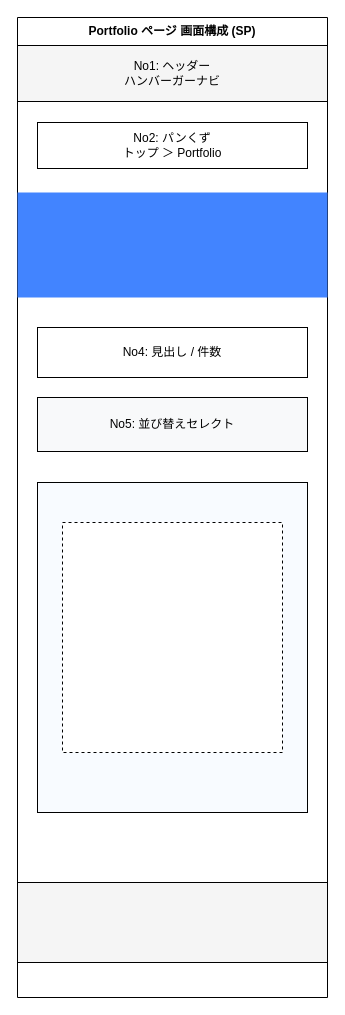
The diagram is 345 pixels wide and 1015 high, and some of its shapes have lost their labels. The shapes that lost their labels are listed below. From the top down, each one's centre as x and y in pixels, then its label:
At [172,244]: "No3: 下層タイトル Portfolio / 制作物".
At [172,637]: "No7: カード要素 画像 / 日付 / タイトル / タグ".
At [172,922]: "No8: フッター".
